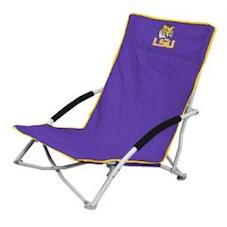chair: (4, 4, 216, 214)
